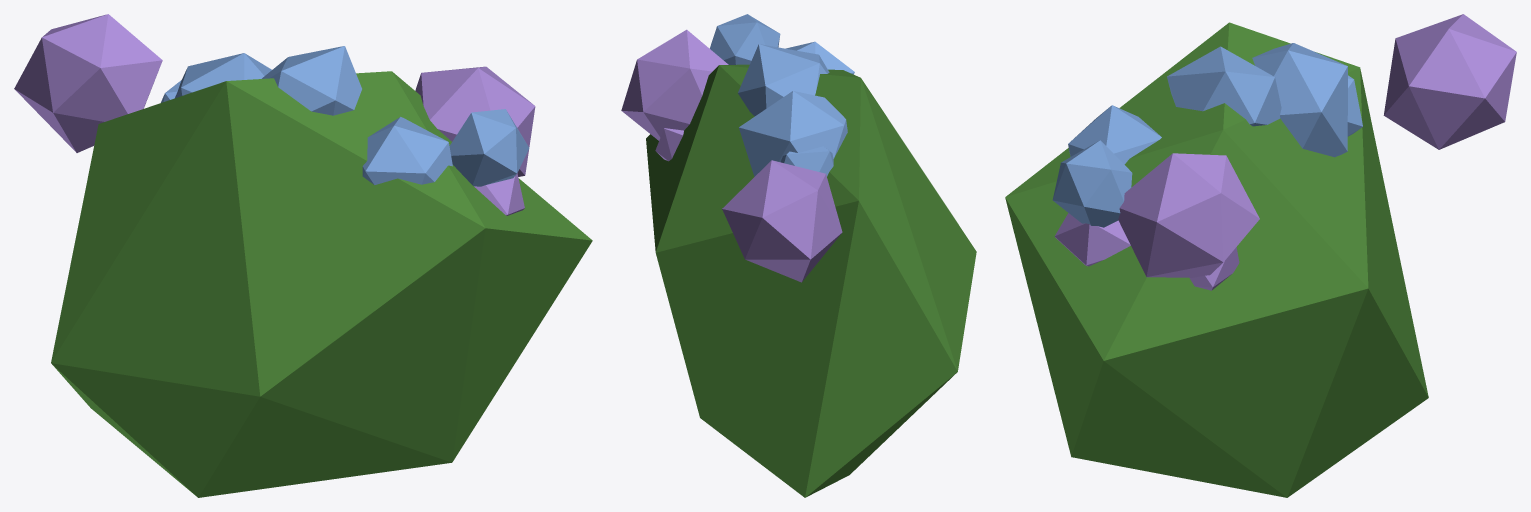
Rendered from getkong-hhblume1.glb.
3 views of the same model, side by side, from view 1: azimuth 30°, elevation 25°; view 2: azimuth 150°, elevation 25°; view 3: azimuth 270°, elevation 25° (orthographic). The views are drawn at different scales.
Parts seen in each view (by area): view 1: blume1; view 2: blume1; view 3: blume1.
Boxes of the visible parts, x1,y1,x2,y2 form: blume1: (14,14,592,497); blume1: (621,14,976,497); blume1: (1005,14,1516,497).
Bounding box in the file's own units: 0.6968 × 0.6536 × 0.6878.
